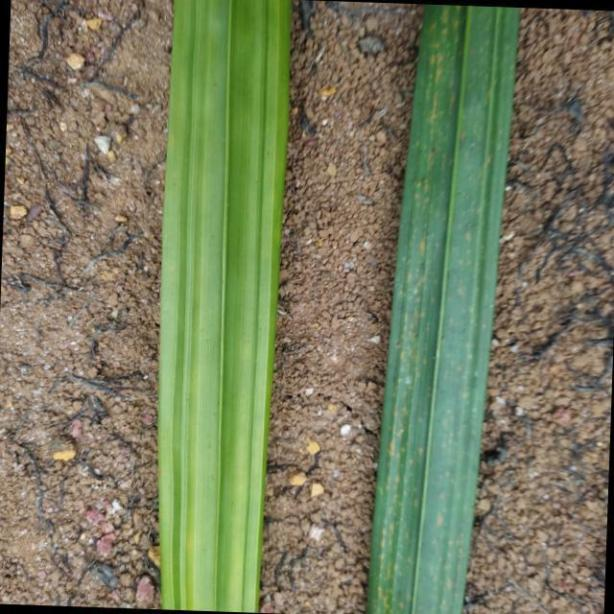nitrogen: (360, 0, 515, 614), (149, 0, 289, 614)
